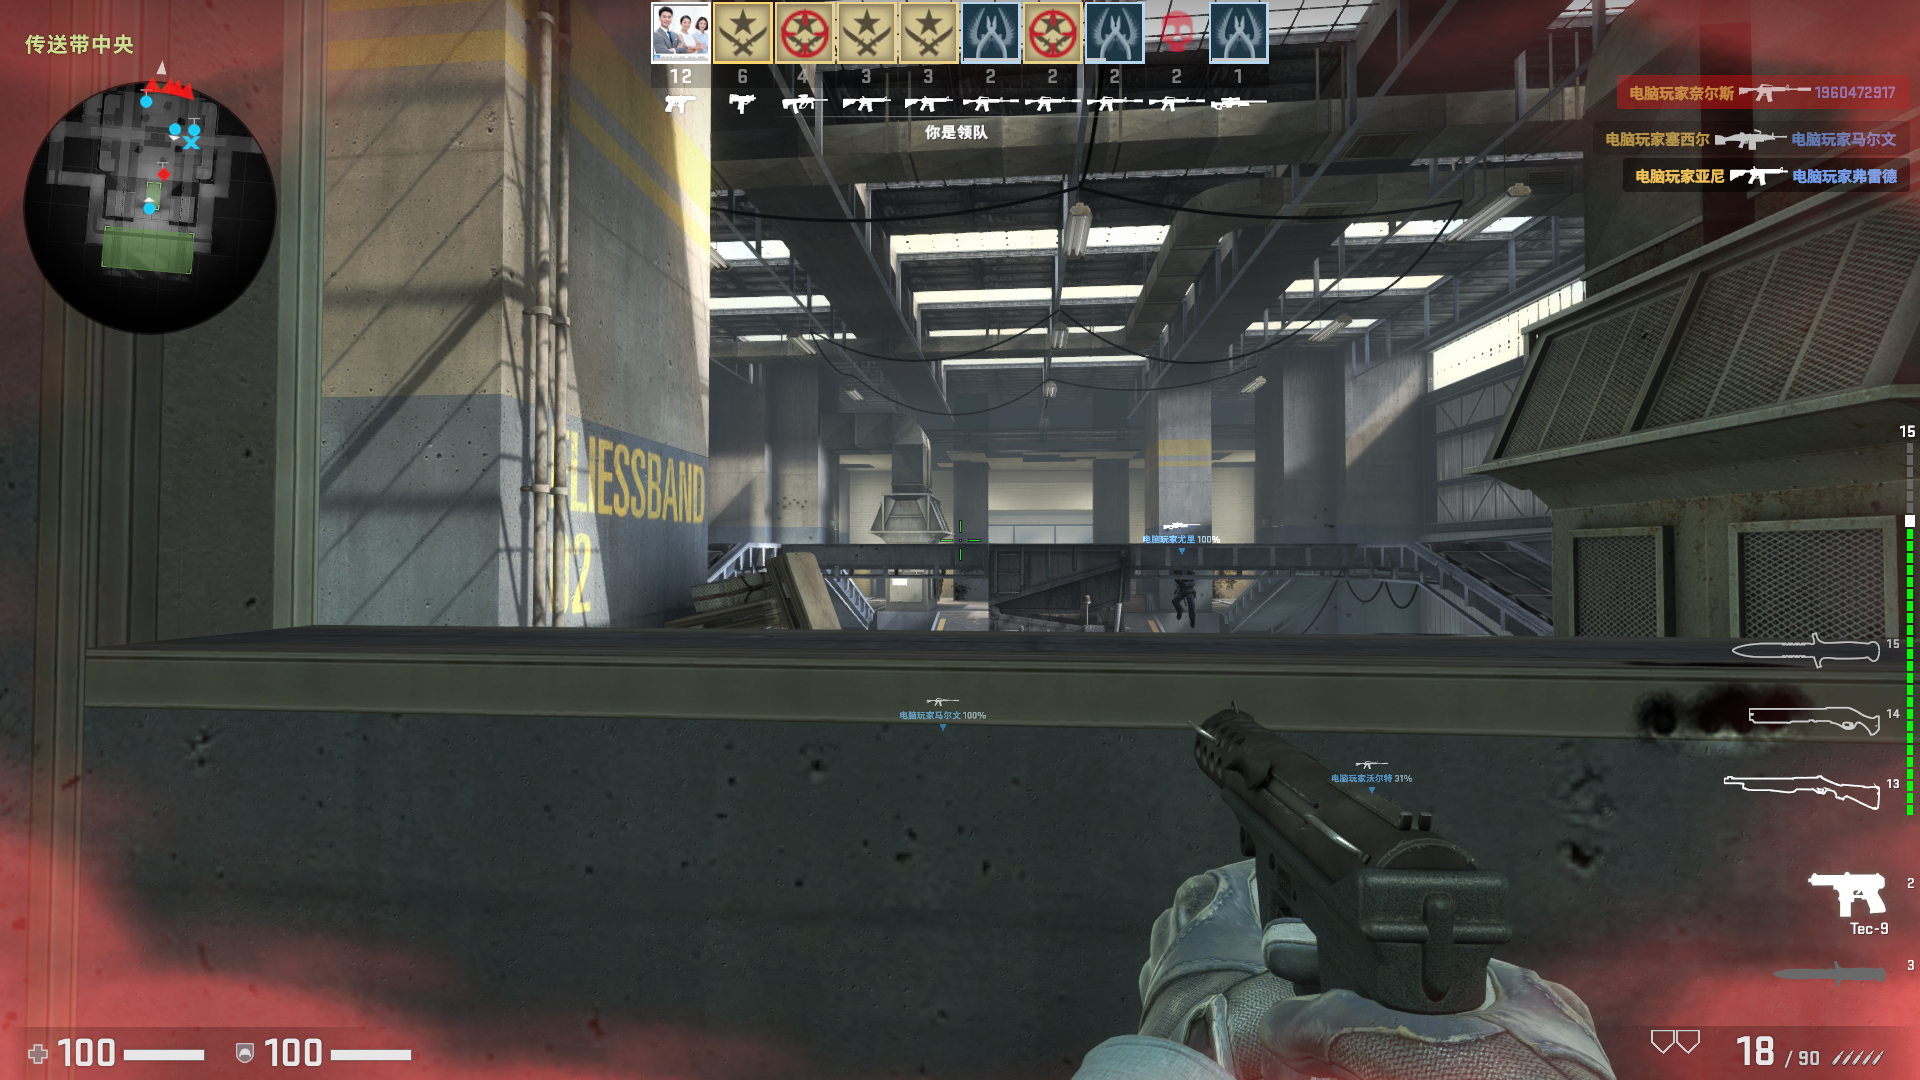person: (1163, 549, 1208, 628)
